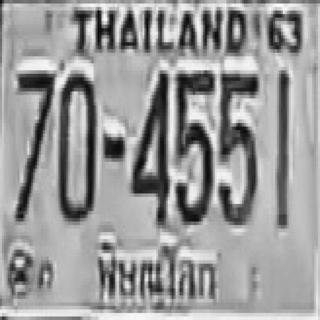N00: (56, 70, 94, 218)
N01: (274, 70, 288, 225)
N04: (130, 67, 169, 222)
N05: (216, 67, 258, 222), (174, 67, 213, 222)
N07: (14, 67, 53, 218)
P46: (89, 230, 222, 312)
